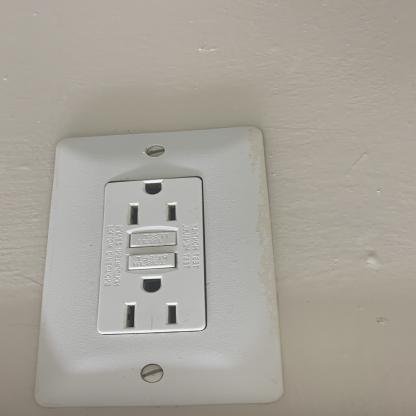OUTLET: (37, 131, 270, 408)
